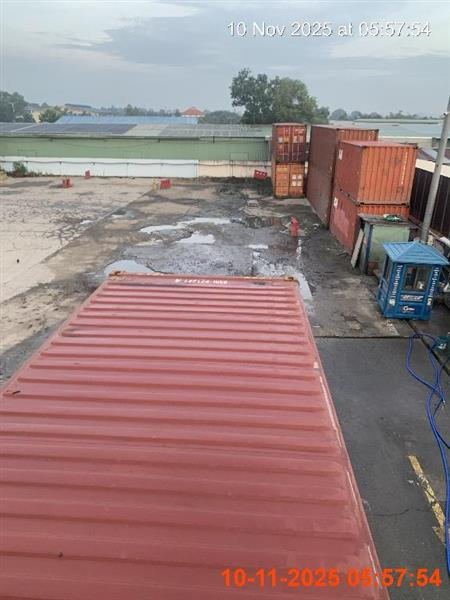crack: (0, 269, 389, 599)
